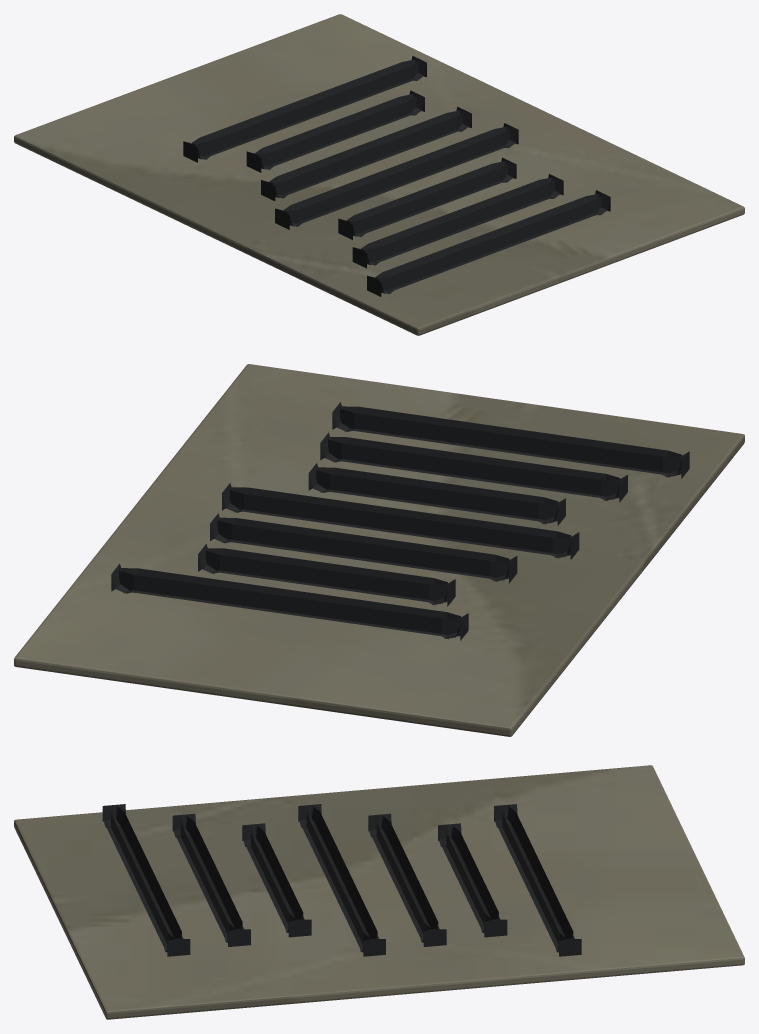
The model's file is item_note.glb.
The picture shows the model from 3 angles, top to bottom: view 1: azimuth 30°, elevation 25°; view 2: azimuth 150°, elevation 25°; view 3: azimuth 270°, elevation 25°; orthographic projection. The views are drawn at different scales.
Parts seen in each view (by area): view 1: body; view 2: body; view 3: body.
Boxes of the visible parts, x1,y1,x2,y2 form: body: (14, 14, 744, 335); body: (14, 364, 744, 736); body: (14, 765, 744, 1019).
Bounding box in the file's own units: 0.2512 × 0.0145 × 0.3138.
2 materials, 1 textured.
